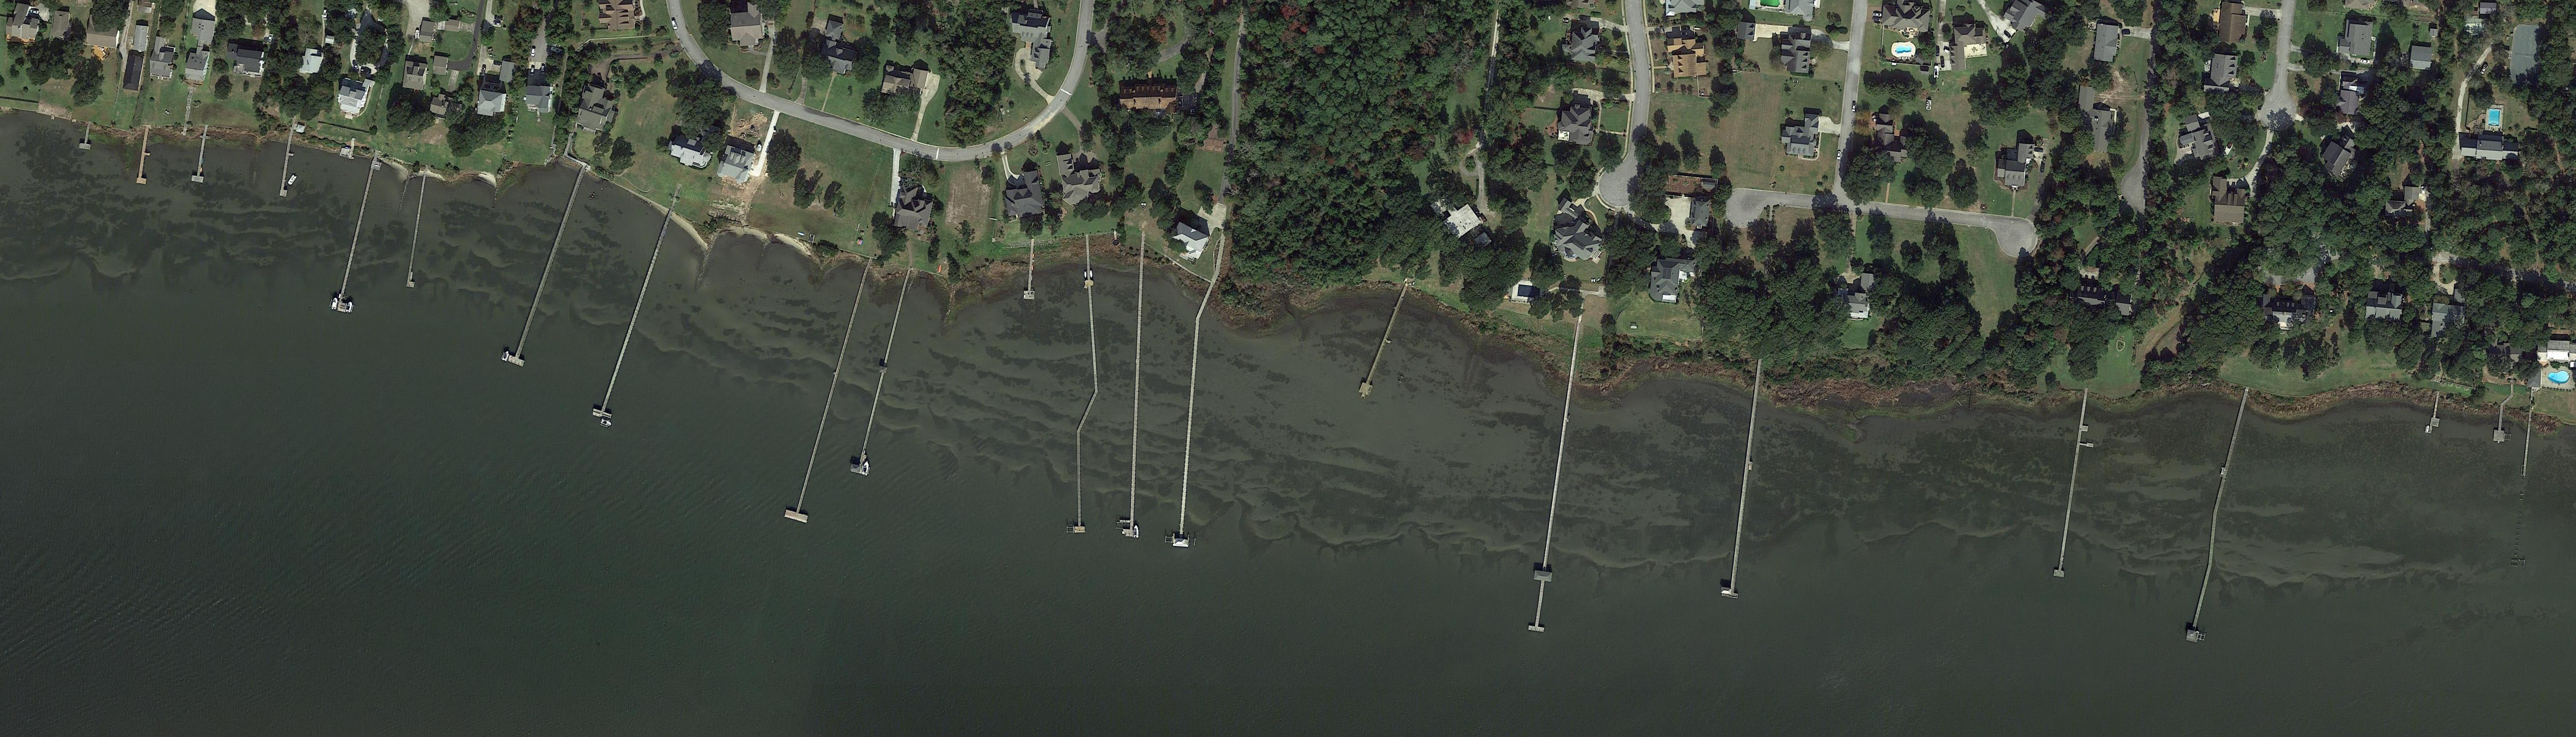harbor: (784, 271, 876, 524), (506, 169, 593, 368), (591, 222, 675, 419), (1525, 371, 1582, 634), (849, 281, 908, 476), (1720, 363, 1768, 599), (2054, 402, 2100, 579), (1171, 318, 1206, 548), (337, 159, 383, 314), (1117, 281, 1143, 538), (1357, 286, 1413, 401), (2213, 392, 2249, 514), (406, 176, 432, 289), (2185, 563, 2216, 643), (1084, 236, 1099, 386), (1073, 430, 1086, 533), (279, 133, 297, 197), (192, 128, 212, 184), (136, 128, 154, 185), (1022, 245, 1038, 300), (1078, 389, 1099, 430), (2428, 392, 2445, 435), (2494, 404, 2509, 443), (2208, 515, 2218, 563), (79, 123, 95, 151)
ship: (861, 461, 869, 476), (287, 174, 297, 185), (330, 297, 338, 310), (600, 419, 613, 427), (345, 300, 353, 314), (550, 46, 563, 54), (501, 350, 509, 361), (1134, 525, 1140, 538), (1934, 66, 1940, 79), (1925, 100, 1932, 110), (414, 30, 419, 39), (2425, 425, 2430, 433), (1084, 271, 1088, 279), (1091, 271, 1092, 279)
